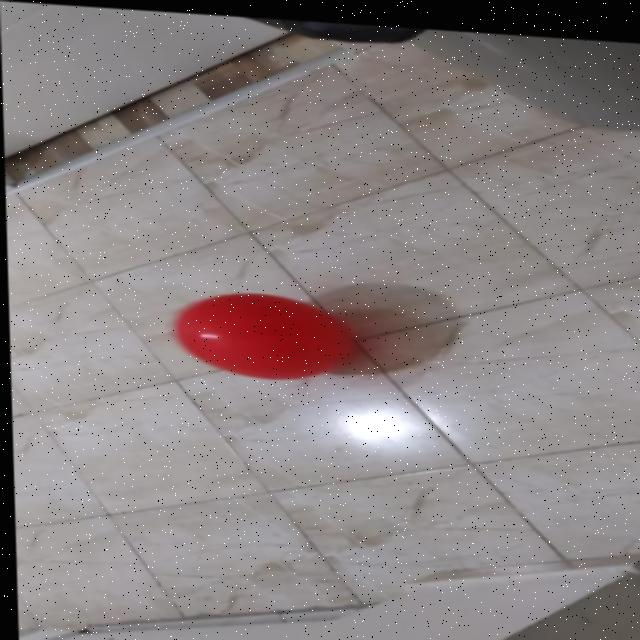balloon: (152, 281, 360, 383)
